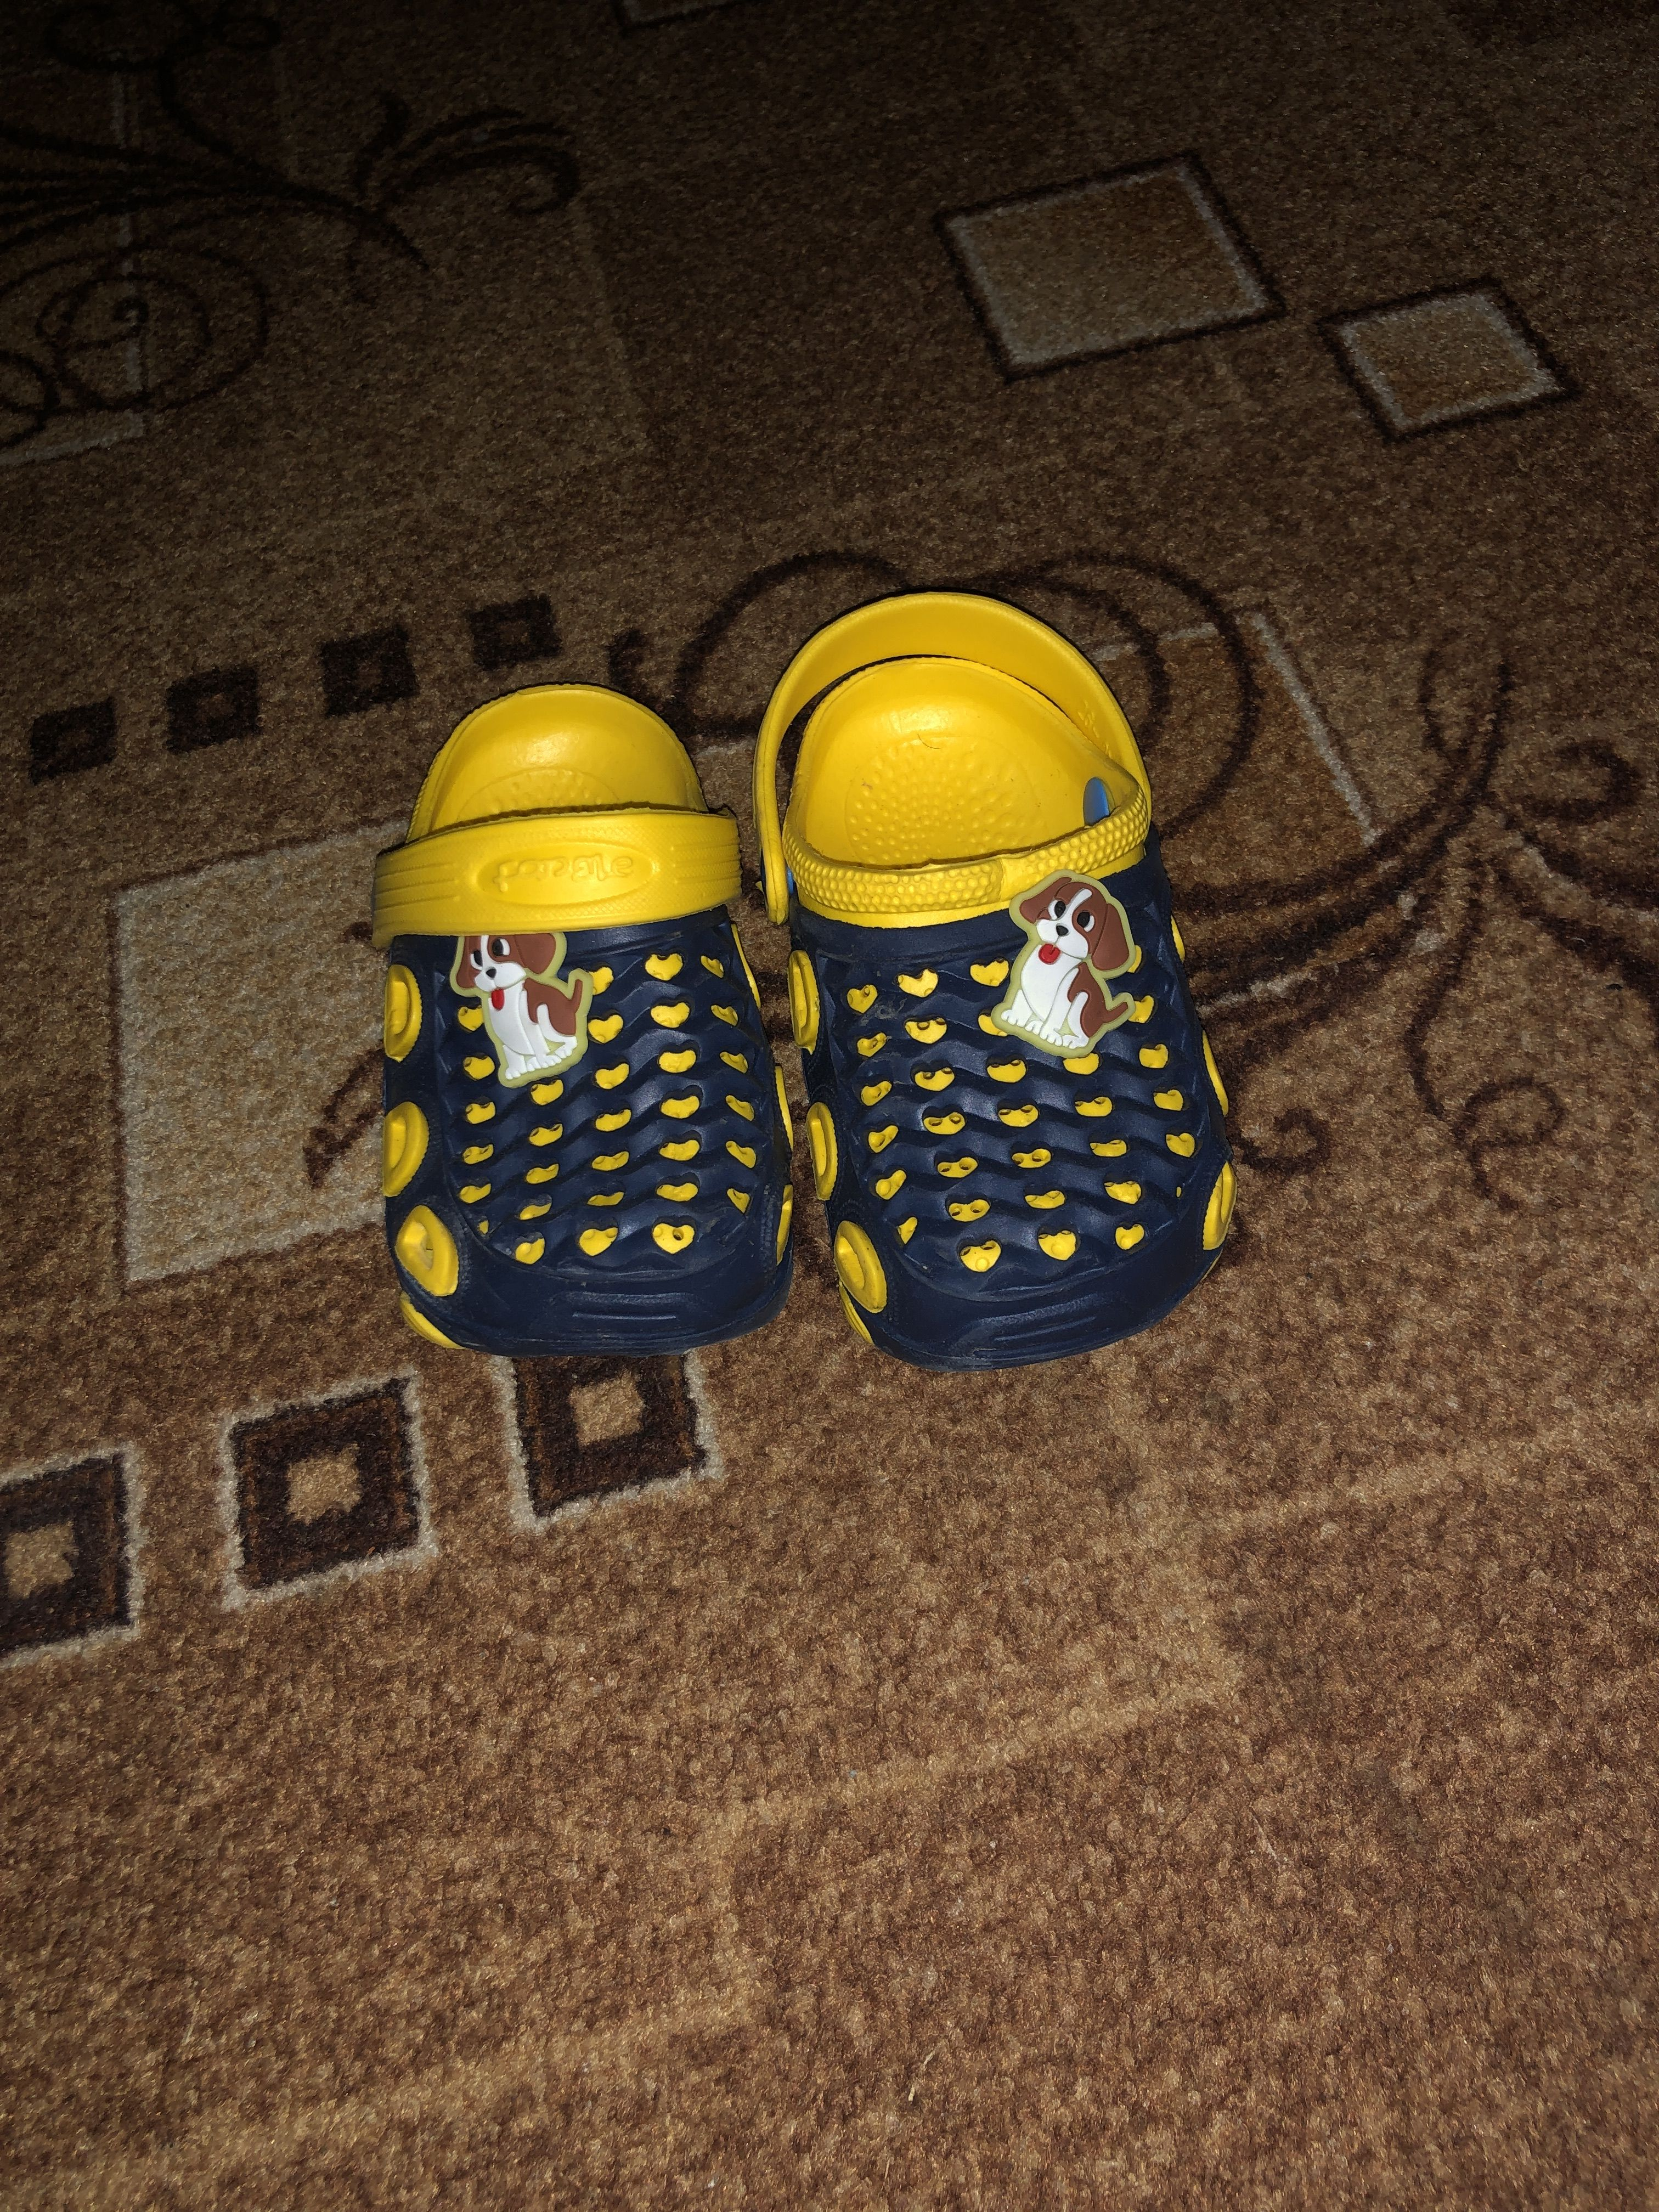clothes: (336, 583, 1246, 1366)
